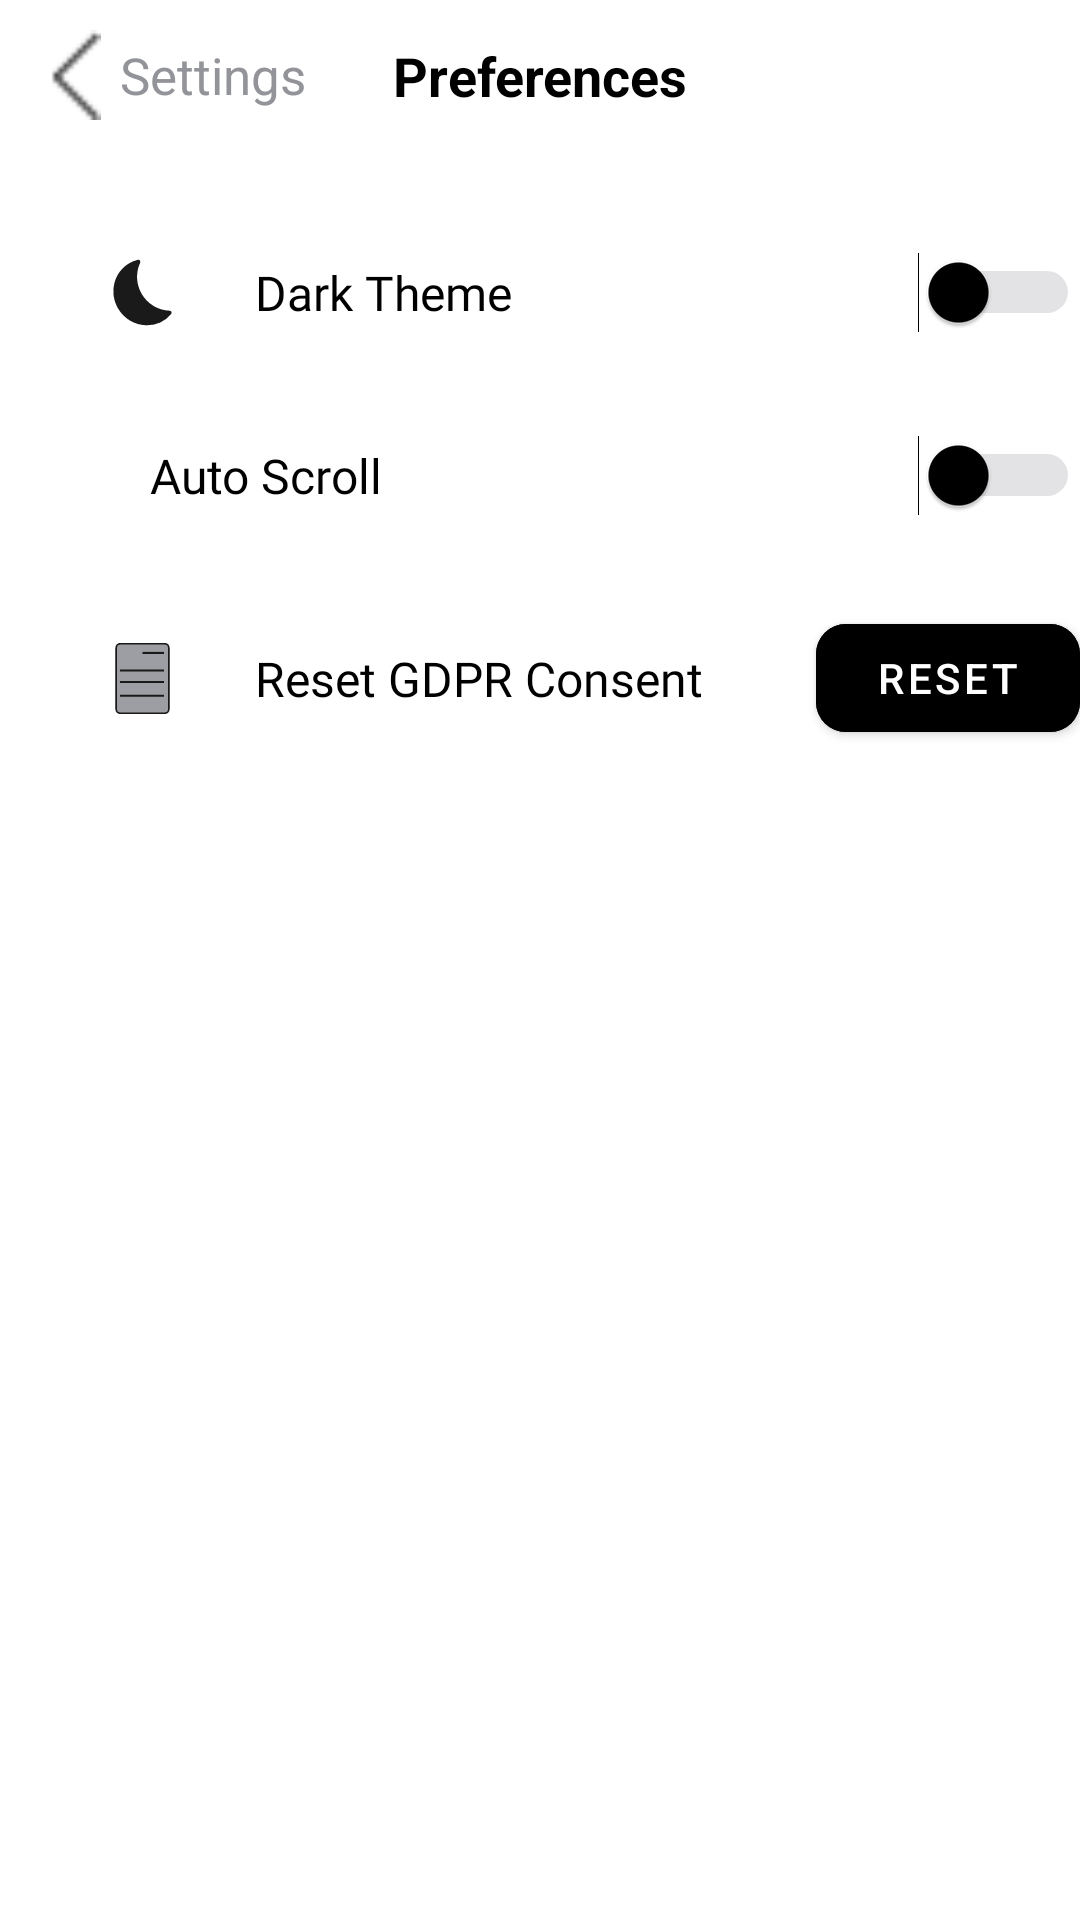

Icons on this 1080px×1920px Android screen, each with the point to tap as (x,y):
form: (142,678)
left arrow: (76,76)
mode: (142,292)
